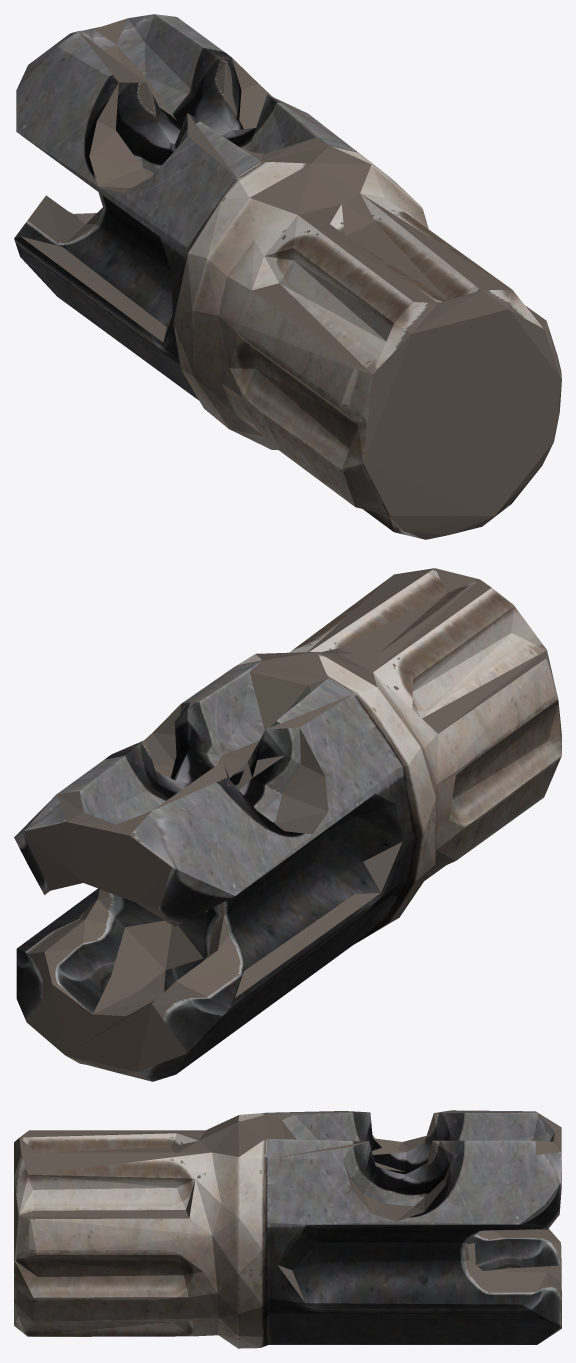
Rendered from compensator.glb.
The picture shows the model from 3 angles, top to bottom: view 1: azimuth 30°, elevation 25°; view 2: azimuth 150°, elevation 25°; view 3: azimuth 270°, elevation 25°; orthographic projection. The views are drawn at different scales.
Parts seen in each view (by area): view 1: Mesh_0; view 2: Mesh_0; view 3: Mesh_0.
Boxes of the visible parts, left/top/right/bottom form: Mesh_0: left=14, top=14, right=561, bottom=539; Mesh_0: left=14, top=568, right=561, bottom=1081; Mesh_0: left=14, top=1110, right=561, bottom=1348.
Size of the model in its own units: 0.0318 by 0.0348 by 0.08.
1 material, 1 textured.
